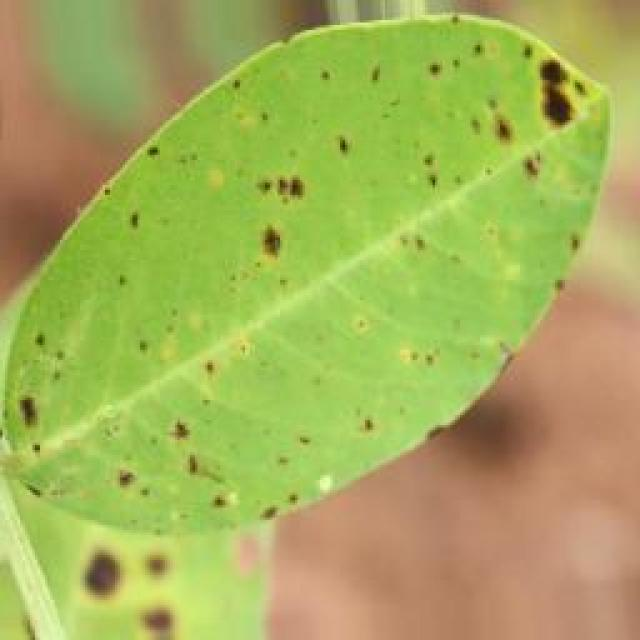Yellowish: (1, 16, 640, 534)
